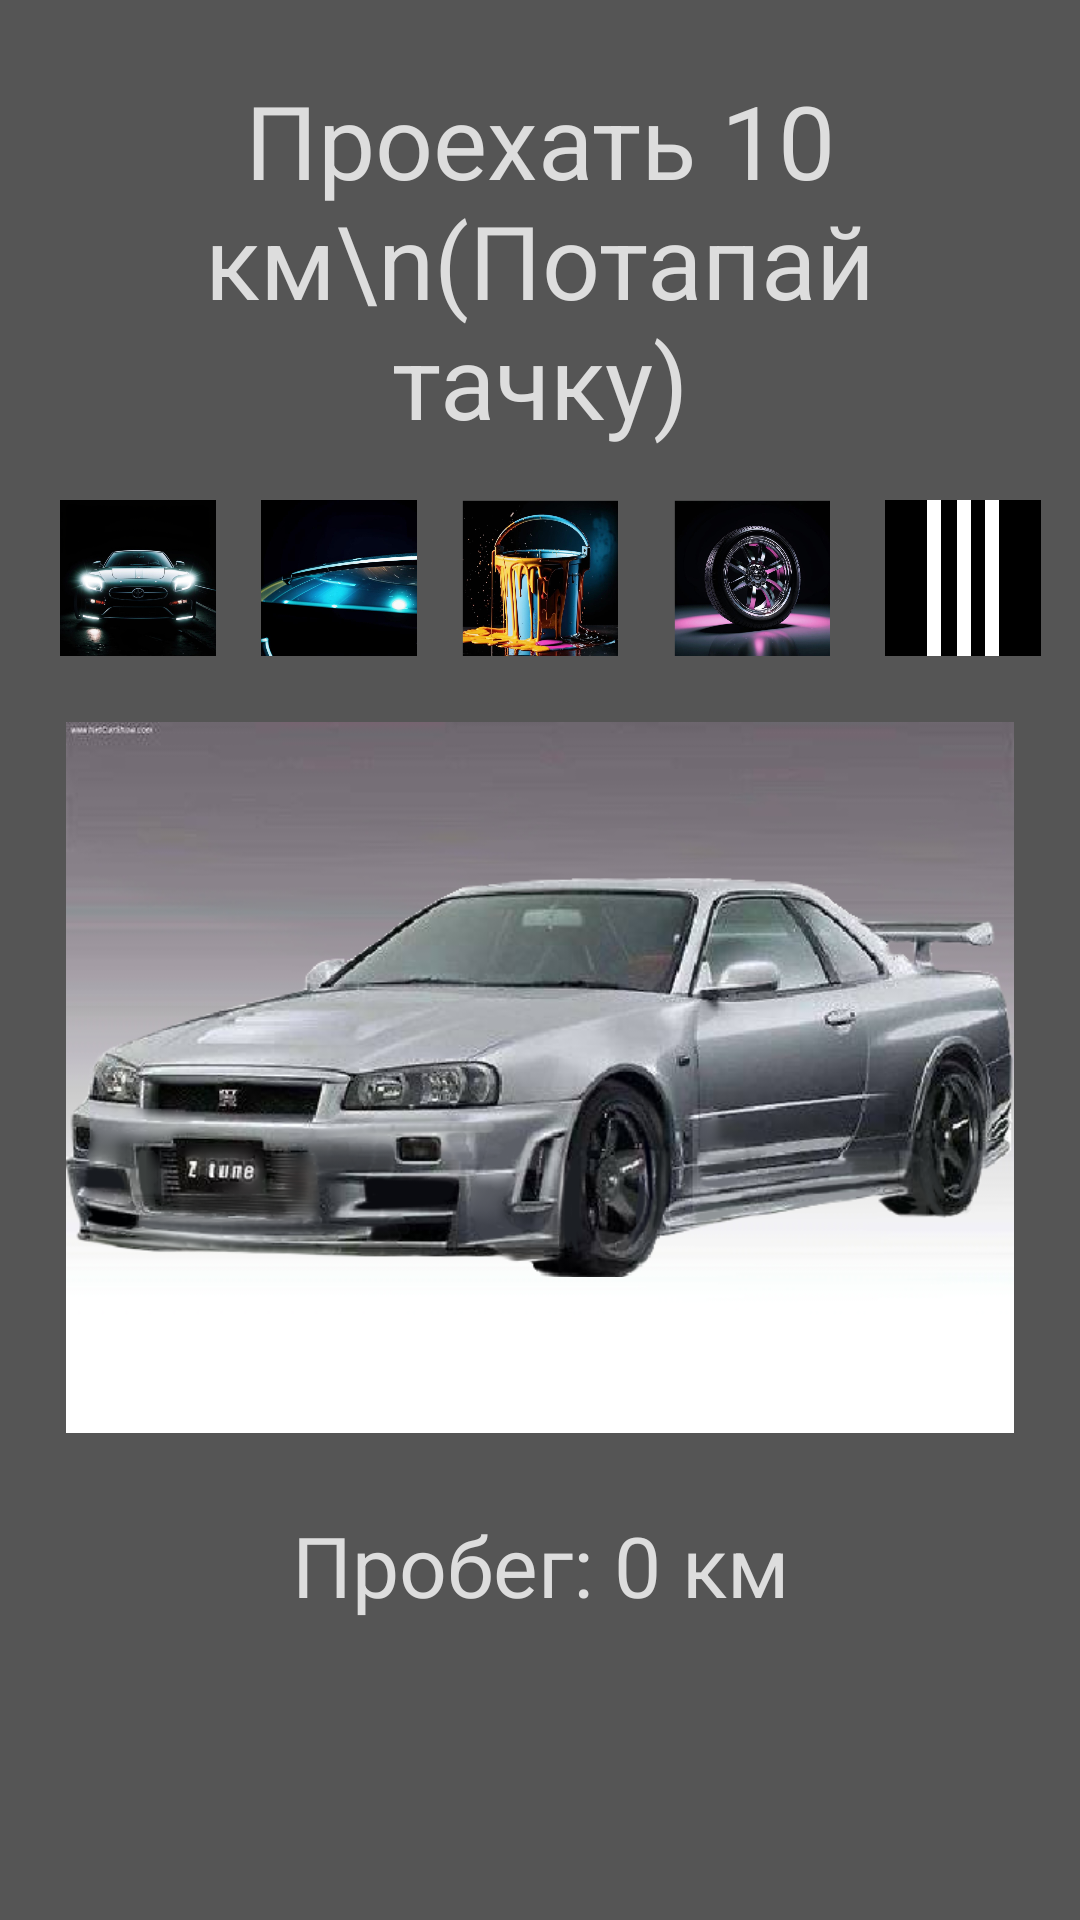

Locate icon controls on the screen. Image size 1080*1920, boxes as BBox(x1, y1, x2, y2).
backet: BBox(462, 501, 618, 656)
livr: BBox(885, 500, 1041, 656)
wheel: BBox(675, 501, 830, 656)
window: BBox(261, 500, 417, 656)
